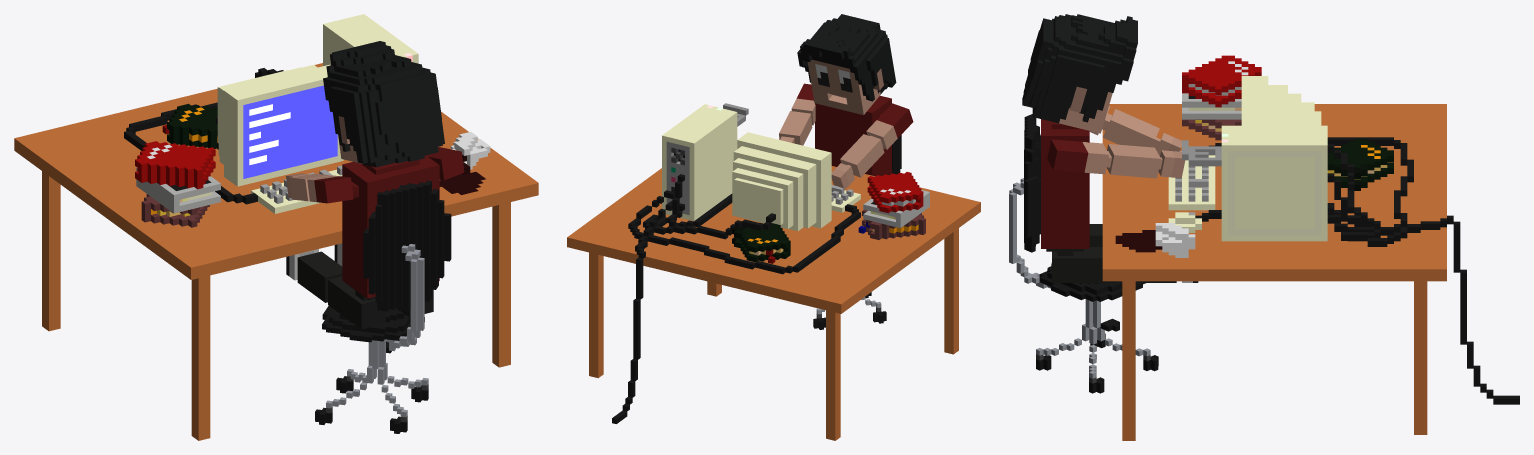
3 views of the same model, side by side, from view 1: azimuth 30°, elevation 25°; view 2: azimuth 150°, elevation 25°; view 3: azimuth 270°, elevation 25° (orthographic). The views are drawn at different scales.
Visible parts, largest first — view 1: Computer_0, Characters-2005, Characters-2, Characters-2004, Characters-2001, Characters-2002; view 2: Computer_0, Characters-2005, Characters-2, Characters-2001, Characters-2002; view 3: Computer_0, Characters-2005, Characters-2, Characters-2002, Characters-2001, Characters-2003.
Part boxes in pixels (bbox=[...]): Computer_0: bbox=[14, 14, 538, 440]; Characters-2005: bbox=[323, 41, 444, 167]; Characters-2: bbox=[342, 155, 439, 300]; Characters-2004: bbox=[286, 249, 385, 329]; Characters-2001: bbox=[286, 173, 353, 203]; Characters-2002: bbox=[426, 147, 464, 180]; Computer_0: bbox=[567, 103, 980, 440]; Characters-2005: bbox=[797, 14, 896, 114]; Characters-2: bbox=[815, 95, 891, 176]; Characters-2001: bbox=[831, 103, 913, 190]; Characters-2002: bbox=[779, 83, 815, 145]; Computer_0: bbox=[1009, 55, 1519, 440]; Characters-2005: bbox=[1022, 14, 1137, 133]; Characters-2: bbox=[1041, 119, 1089, 255]; Characters-2002: bbox=[1047, 139, 1185, 178]; Characters-2001: bbox=[1089, 106, 1181, 156]; Characters-2003: bbox=[1052, 247, 1198, 282].
Size of the model in its own units: 5.9 by 5.74 by 7.71.
7 materials, 2 textured.
